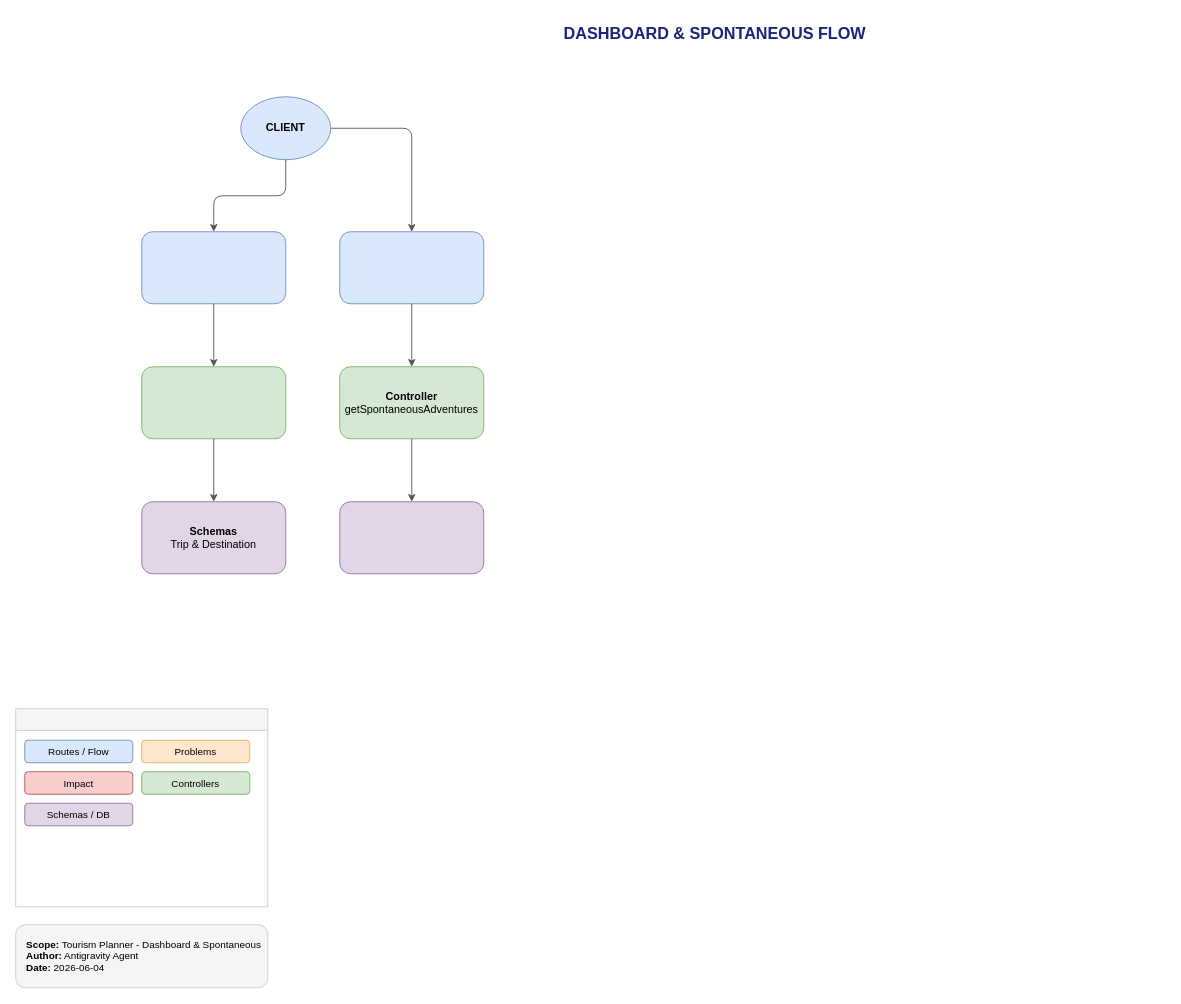
This 1181x1004 diagram has some shape labels left out. The box of each missing label's shape, as (x1, y1, x2, y2) in pixels:
Controller getDashboardStats: (141, 366, 286, 439)
LEGEND: (15, 708, 268, 907)
Route GET /dashboard-stats: (141, 231, 286, 304)
Route GET /spontaneous: (339, 231, 484, 304)
Services / Schemas Places & APIs: (339, 501, 484, 574)
